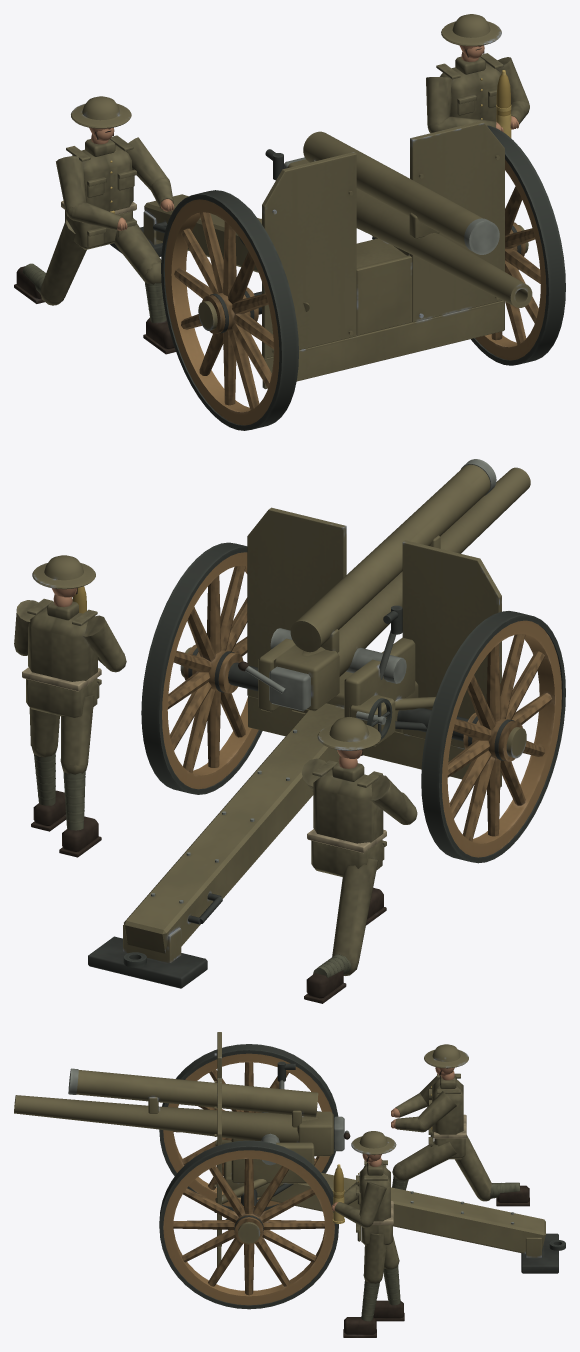
3 renders of one model, top to bottom at view 1: azimuth 30°, elevation 25°; view 2: azimuth 150°, elevation 25°; view 3: azimuth 270°, elevation 25°, orthographic. The views are drawn at different scales.
Parts seen in each view (by area): view 1: Shield, Wheel_R, Kneeling_gunner_Service_dress, Wheel_L, Recoil, Standing_gunner_Service_dress, Barrel, Trail, Carriage, Kneeling_gunner_Brodie_helmet, Standing_gunner_Brodie_helmet, Shell; view 2: Shield, Wheel_R, Trail, Wheel_L, Standing_gunner_Service_dress, Kneeling_gunner_Service_dress, Barrel, Recoil, Carriage, Standing_gunner_Brodie_helmet, Kneeling_gunner_Brodie_helmet; view 3: Wheel_L, Barrel, Trail, Kneeling_gunner_Service_dress, Standing_gunner_Service_dress, Recoil, Wheel_R, Carriage, Shield, Kneeling_gunner_Brodie_helmet, Standing_gunner_Brodie_helmet, Shell.
Part boxes in pixels (x1=…): Shield: x1=262, y1=121, x2=504, y2=389; Wheel_R: x1=161, y1=190, x2=298, y2=430; Kneeling_gunner_Service_dress: x1=14, y1=127, x2=175, y2=354; Wheel_L: x1=471, y1=125, x2=565, y2=365; Recoil: x1=303, y1=131, x2=499, y2=254; Standing_gunner_Service_dress: x1=426, y1=45, x2=529, y2=269; Barrel: x1=284, y1=157, x2=532, y2=307; Trail: x1=110, y1=194, x2=260, y2=272; Carriage: x1=239, y1=149, x2=409, y2=314; Kneeling_gunner_Brodie_helmet: x1=71, y1=96, x2=131, y2=128; Standing_gunner_Brodie_helmet: x1=441, y1=14, x2=501, y2=46; Shell: x1=496, y1=70, x2=511, y2=137; Shield: x1=247, y1=507, x2=501, y2=787; Wheel_R: x1=421, y1=611, x2=565, y2=863; Trail: x1=88, y1=703, x2=344, y2=988; Wheel_L: x1=141, y1=542, x2=262, y2=794; Standing_gunner_Service_dress: x1=14, y1=588, x2=126, y2=857; Kneeling_gunner_Service_dress: x1=301, y1=749, x2=417, y2=1003; Barrel: x1=238, y1=467, x2=530, y2=711; Recoil: x1=290, y1=459, x2=496, y2=652; Carriage: x1=228, y1=605, x2=468, y2=746; Standing_gunner_Brodie_helmet: x1=32, y1=555, x2=95, y2=589; Kneeling_gunner_Brodie_helmet: x1=317, y1=717, x2=381, y2=750; Wheel_L: x1=159, y1=1140, x2=338, y2=1309; Barrel: x1=14, y1=1095, x2=350, y2=1156; Trail: x1=258, y1=1172, x2=565, y2=1273; Kneeling_gunner_Service_dress: x1=391, y1=1067, x2=529, y2=1206; Standing_gunner_Service_dress: x1=332, y1=1153, x2=404, y2=1337; Recoil: x1=68, y1=1068, x2=318, y2=1127; Wheel_R: x1=159, y1=1044, x2=338, y2=1211; Carriage: x1=215, y1=1061, x2=320, y2=1219; Shield: x1=214, y1=1032, x2=221, y2=1266; Kneeling_gunner_Brodie_helmet: x1=424, y1=1044, x2=468, y2=1068; Standing_gunner_Brodie_helmet: x1=351, y1=1131, x2=396, y2=1154; Shell: x1=332, y1=1164, x2=344, y2=1223.
Bounding box in the file's own units: 2.87 × 1.71 × 4.4.
Materials: 1 (1 with a texture image).
